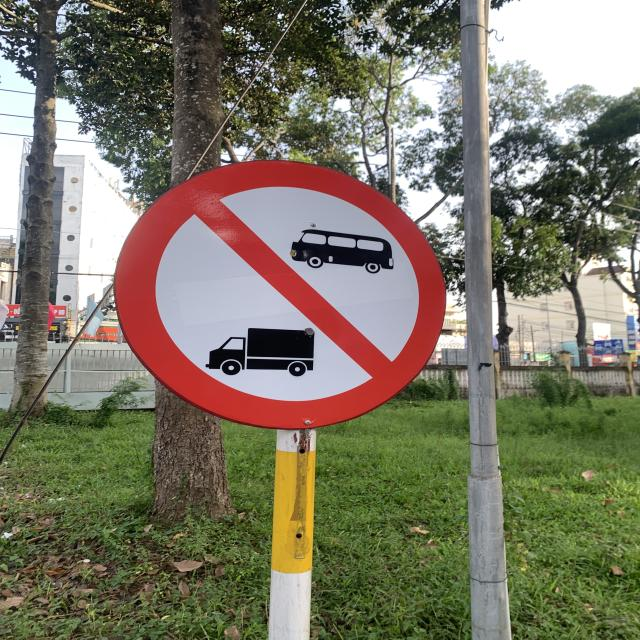Cam_XeTai_XeKhach: (109, 160, 454, 427)
